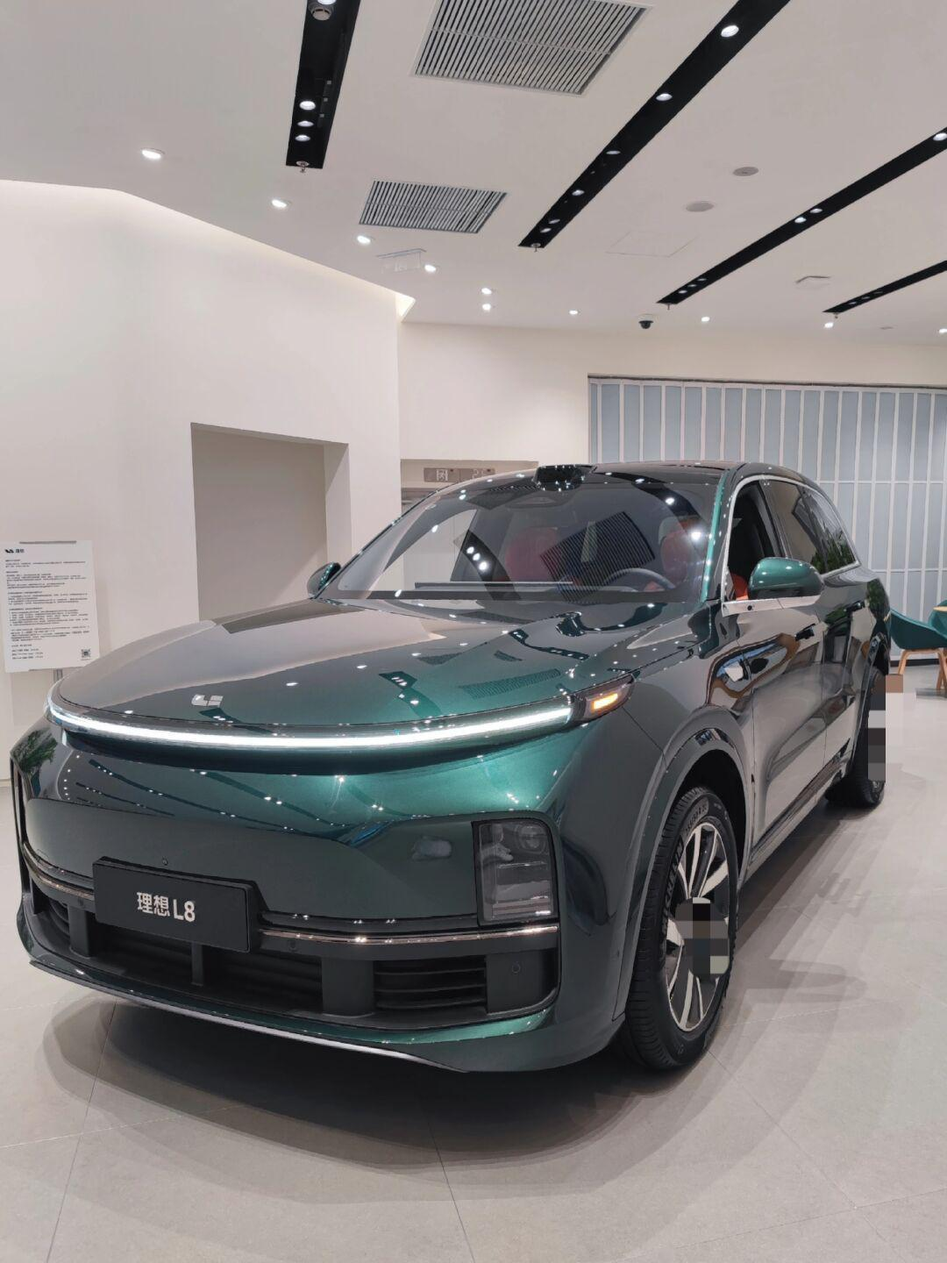Li Auto: (190, 693, 224, 707)
